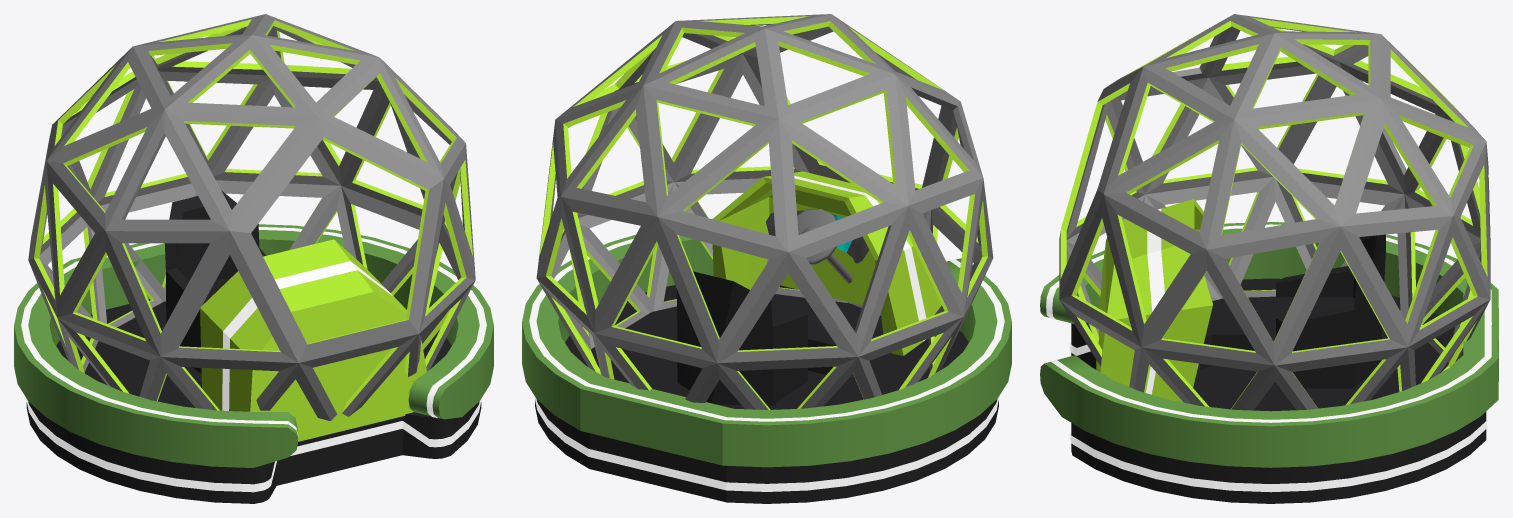
File: vehicle.cage.02.gltf
3 views of the same model, side by side, from view 1: azimuth 30°, elevation 25°; view 2: azimuth 150°, elevation 25°; view 3: azimuth 270°, elevation 25° (orthographic). The views are drawn at different scales.
Parts seen in each view (by area): view 1: cageCart2; view 2: cageCart2; view 3: cageCart2.
Boxes of the visible parts, left/top/right/bottom form: cageCart2: left=14, top=14, right=493, bottom=503; cageCart2: left=522, top=14, right=1011, bottom=503; cageCart2: left=1040, top=14, right=1498, bottom=503.
Size of the model in its own units: 2.11 by 1.8 by 2.
Materials: 2 (2 with a texture image).
